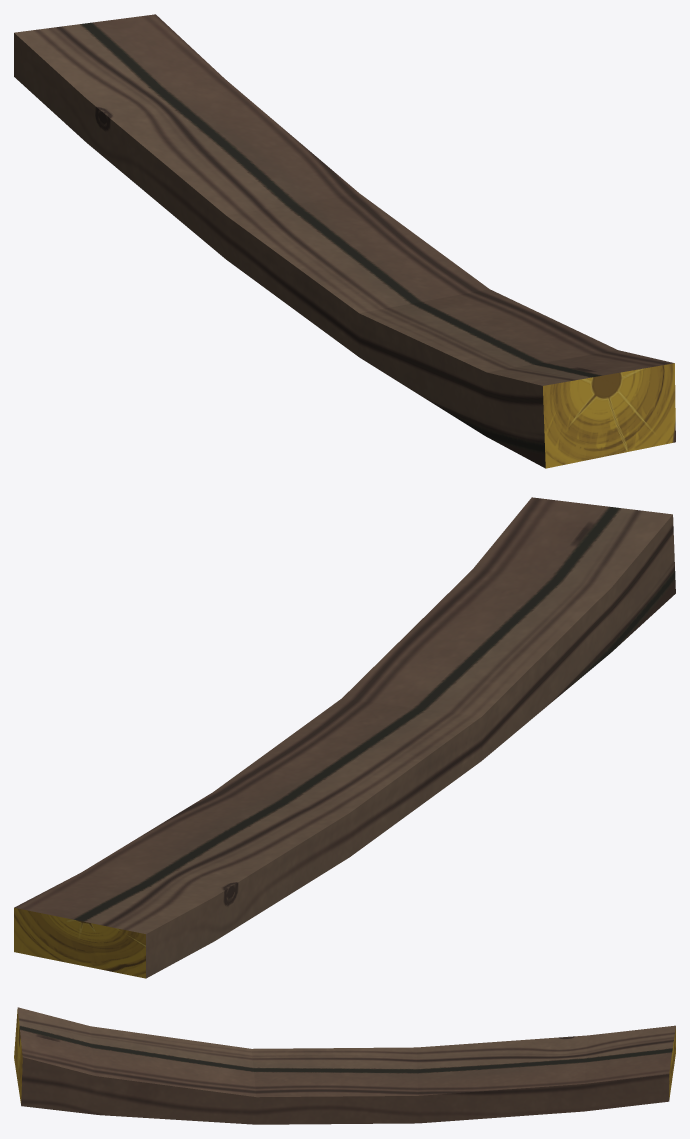
The model's file is poutre.FBX.
The picture shows the model from 3 angles, top to bottom: view 1: azimuth 30°, elevation 25°; view 2: azimuth 150°, elevation 25°; view 3: azimuth 270°, elevation 25°; orthographic projection. The views are drawn at different scales.
Parts seen in each view (by area): view 1: Object001; view 2: Object001; view 3: Object001.
Part boxes in pixels (x1,y1,x2,y2): Object001: (14,14,675,468); Object001: (14,497,675,978); Object001: (14,1007,675,1124).
Bounding box in the file's own units: 145 × 119 × 943.
Materials: 1 (1 with a texture image).
